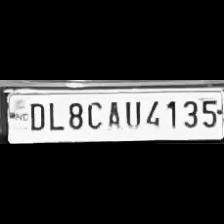1: (162, 97, 178, 128)
3: (180, 97, 198, 129)
4: (142, 97, 162, 129)
5: (199, 96, 219, 128)
8: (64, 97, 84, 130)
A: (104, 98, 122, 130)
C: (83, 98, 103, 130)
D: (25, 99, 47, 131)
L: (46, 98, 62, 132)
U: (122, 97, 142, 129)
